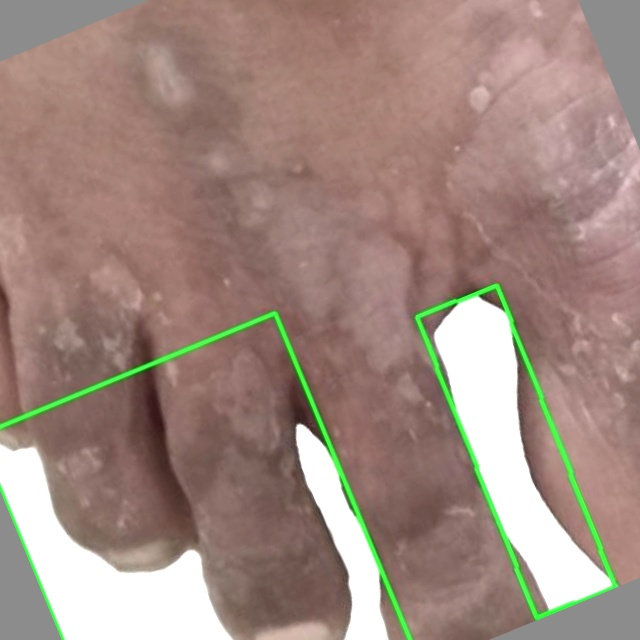Eczema: (0, 312, 410, 639), (417, 285, 615, 619)
